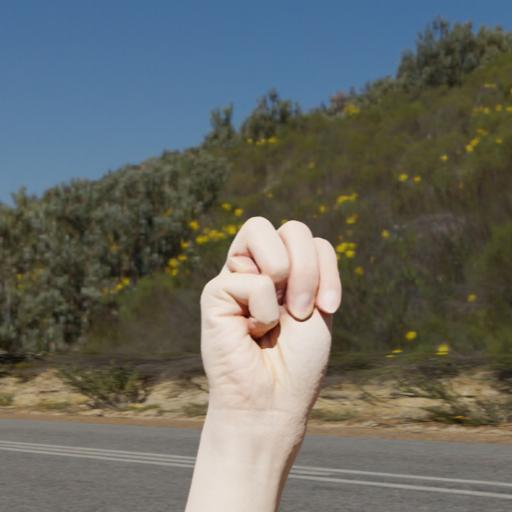M: (198, 213, 347, 422)
